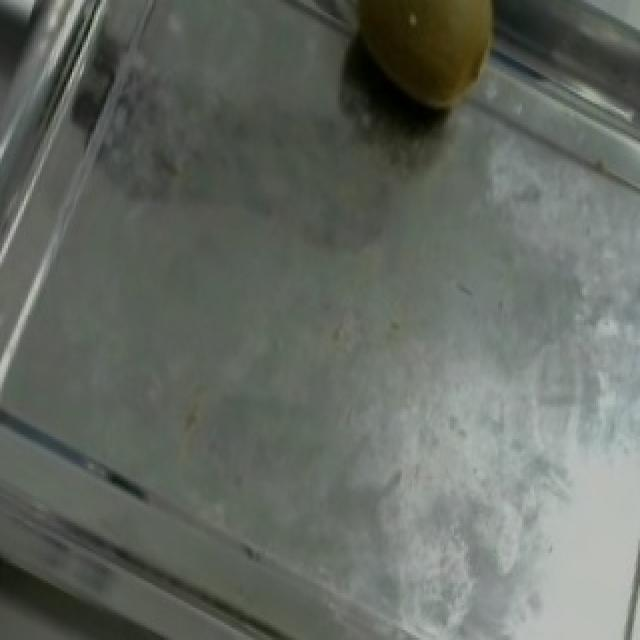Fruit: (328, 0, 534, 149)
